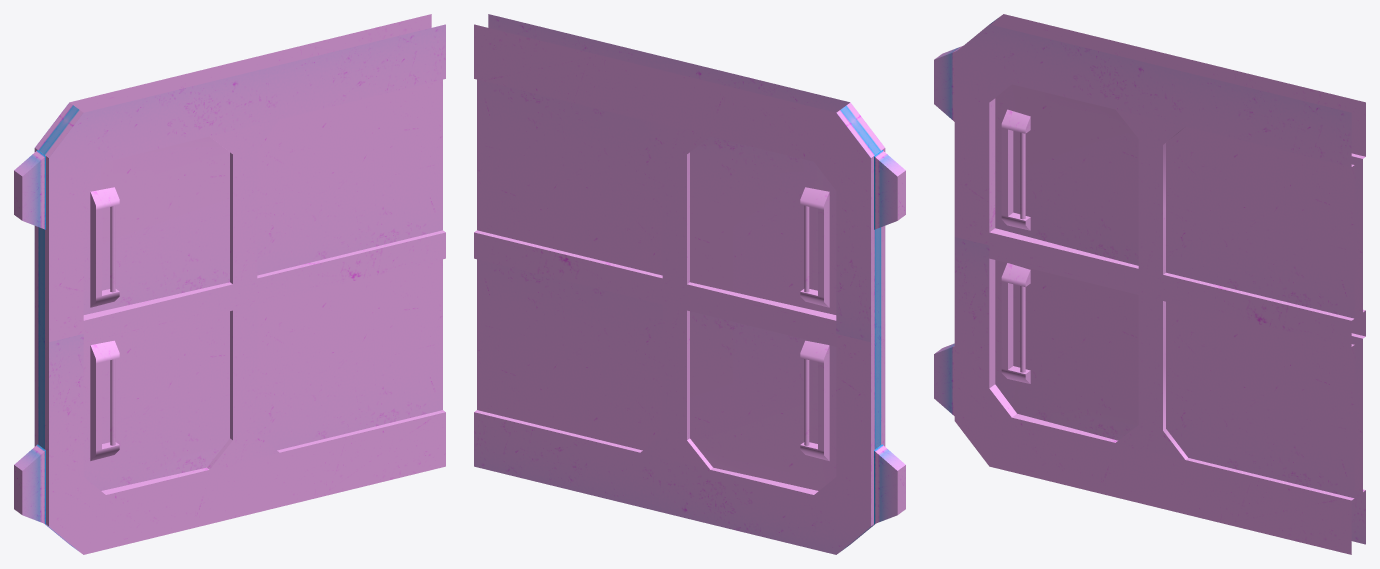
Rendered from Door_01_SM_low.fbx.
3 views of the same model, side by side, from view 1: azimuth 30°, elevation 25°; view 2: azimuth 150°, elevation 25°; view 3: azimuth 330°, elevation 25° (orthographic).
Parts seen in each view (by area): view 1: DoorBase, HandleHolder, HandleHolder1; view 2: DoorBase, HandleHolder, HandleHolder1; view 3: DoorBase, HandleHolder, HandleHolder1.
Boxes of the visible parts, x1,y1,x2,y2 form: DoorBase: (14, 14, 445, 554); HandleHolder: (90, 187, 119, 307); HandleHolder1: (90, 340, 119, 460); DoorBase: (474, 14, 905, 554); HandleHolder: (800, 187, 829, 307); HandleHolder1: (800, 340, 829, 460); DoorBase: (934, 14, 1365, 554); HandleHolder: (1001, 109, 1030, 230); HandleHolder1: (1001, 263, 1030, 383).
Size of the model in its own units: 239 by 240 by 13.98.
Materials: 3 (3 with a texture image).
